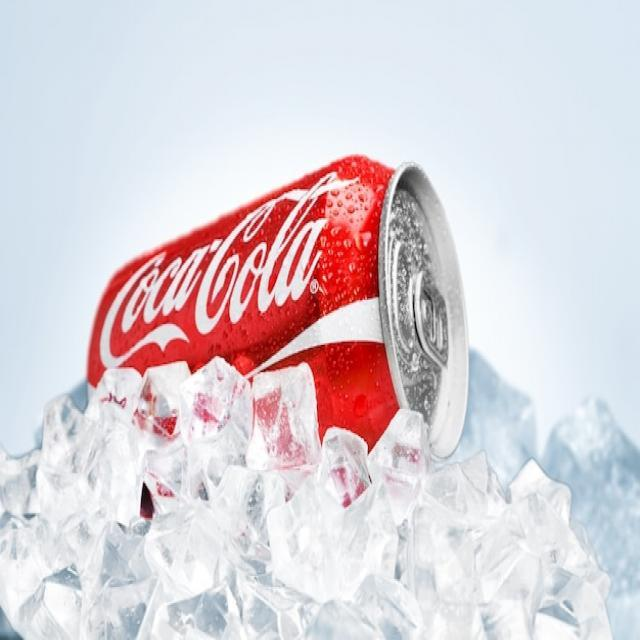coca-cola: (87, 150, 470, 466)
